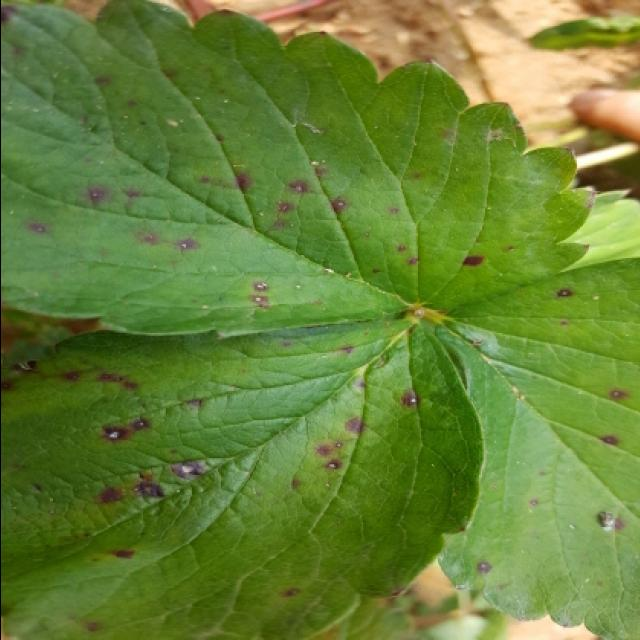Leaf Spot: (2, 2, 597, 340), (2, 315, 484, 640), (427, 256, 640, 640)
